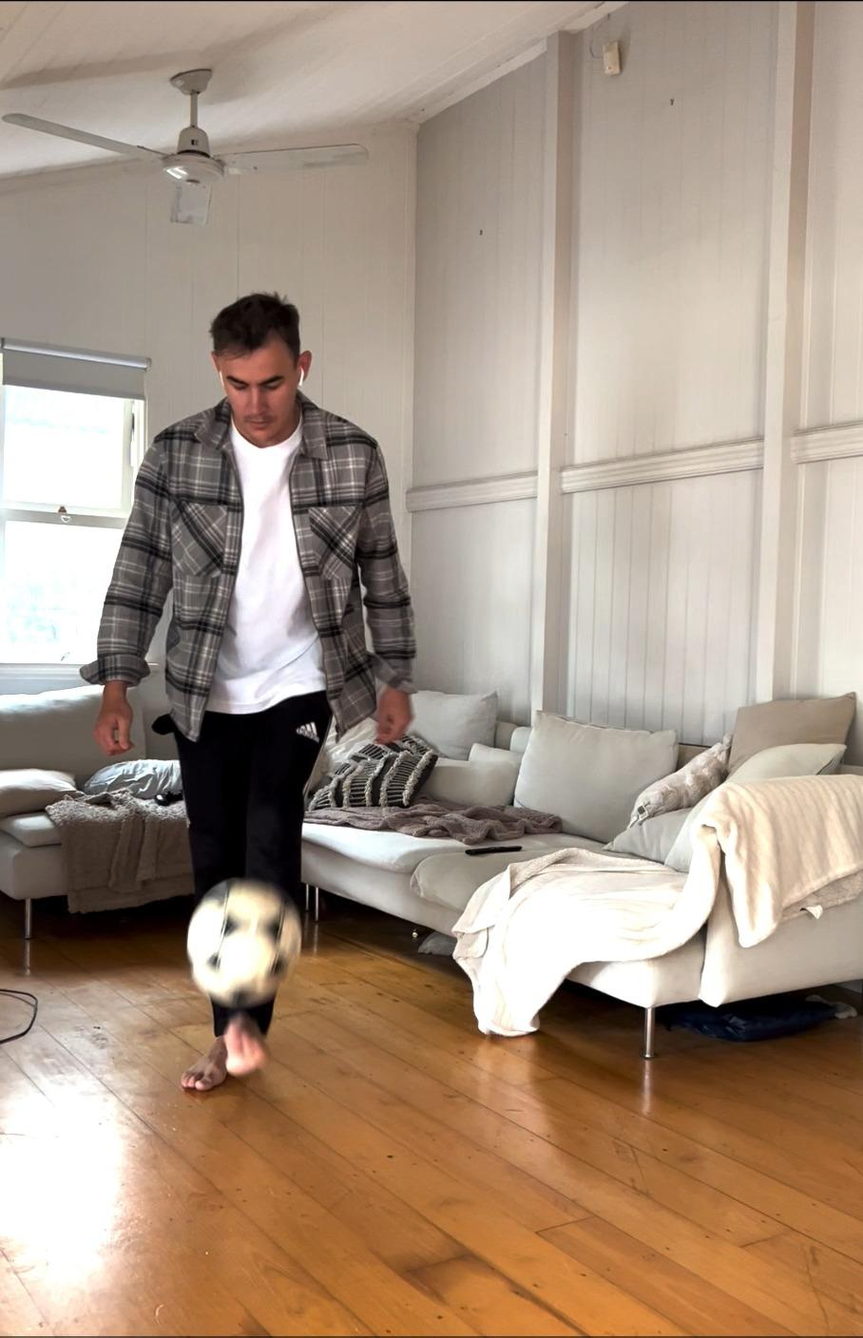ball: (186, 881, 302, 1003)
foot: (226, 1012, 266, 1076), (182, 1036, 228, 1091)
person: (84, 292, 421, 1101)
